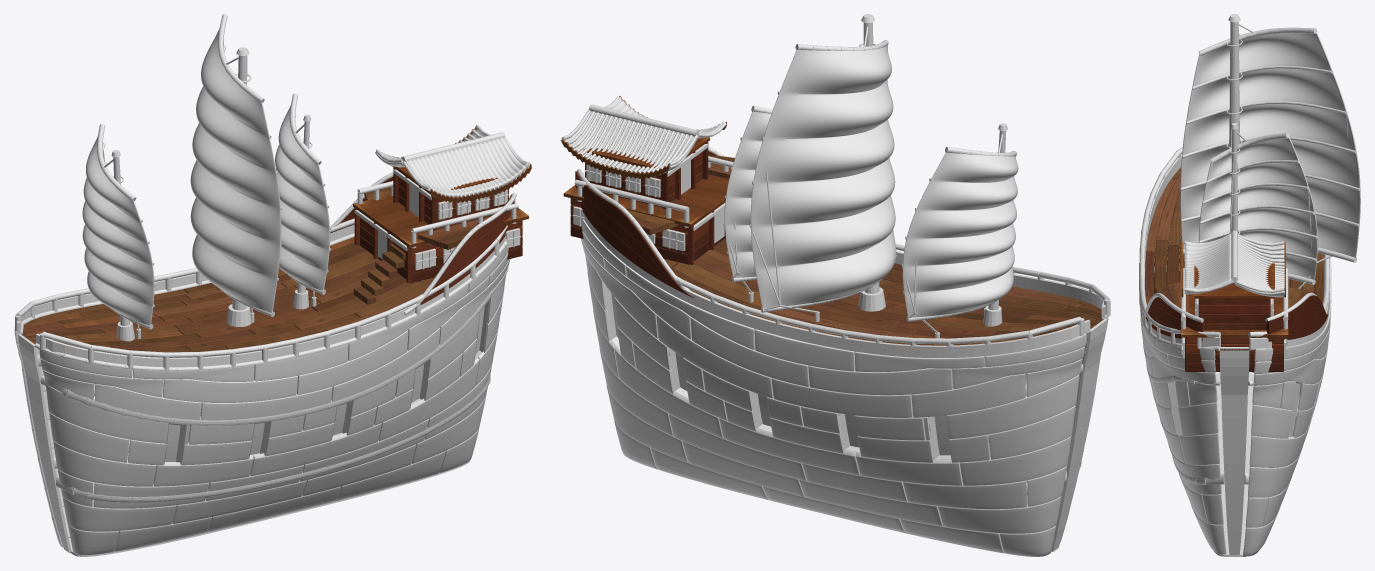
The picture shows the model from 3 angles, left to right: view 1: azimuth 30°, elevation 25°; view 2: azimuth 150°, elevation 25°; view 3: azimuth 270°, elevation 25°; orthographic projection. The views are drawn at different scales.
Visible parts, largest first — view 1: 郑和宝船; view 2: 郑和宝船; view 3: 郑和宝船.
Part boxes in pixels (<box>): 郑和宝船: <box>14,14,531,556</box>; 郑和宝船: <box>560,14,1110,556</box>; 郑和宝船: <box>1139,14,1360,556</box>.
Bounding box in the file's own units: 2.63 × 2.4 × 1.1.
10 materials, 3 textured.
